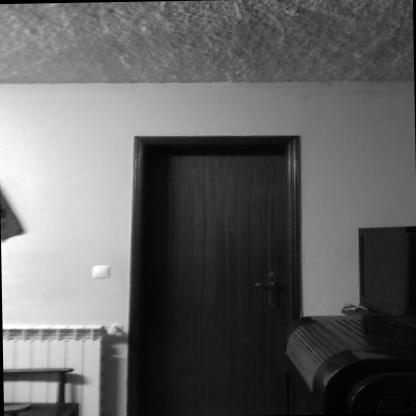closed: (118, 114, 317, 416)
